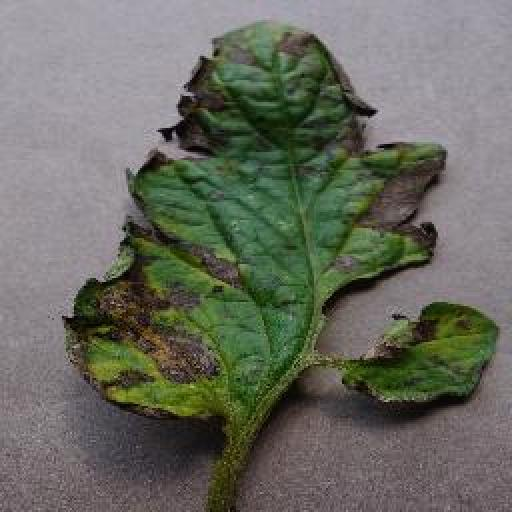disease_tomato: (68, 20, 450, 428)
